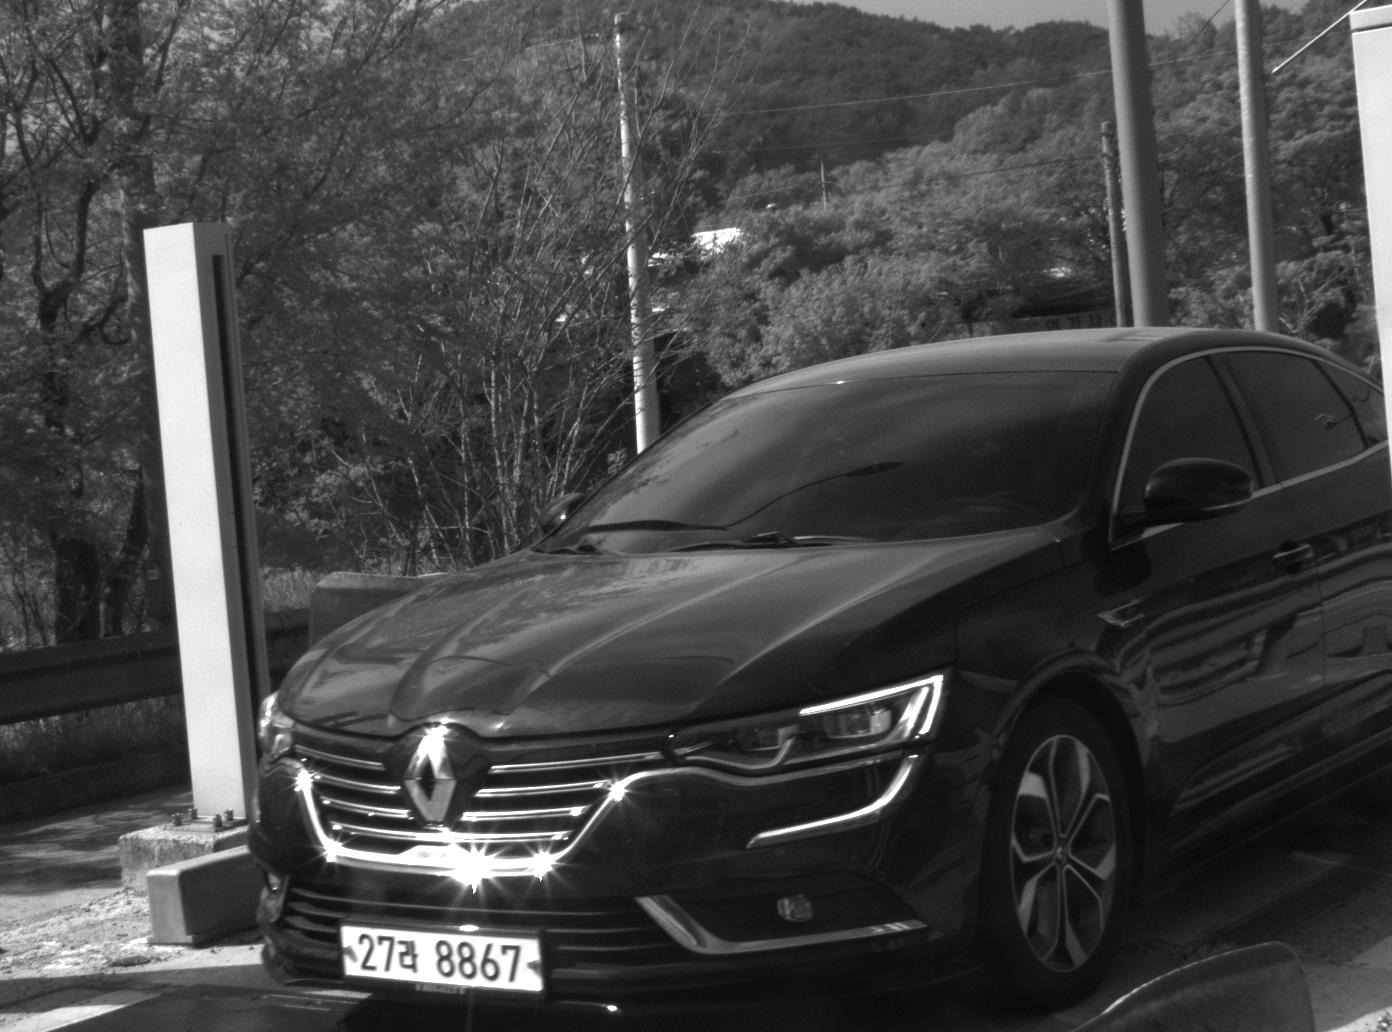car: (251, 323, 1392, 1029)
plate: (336, 917, 548, 999)
